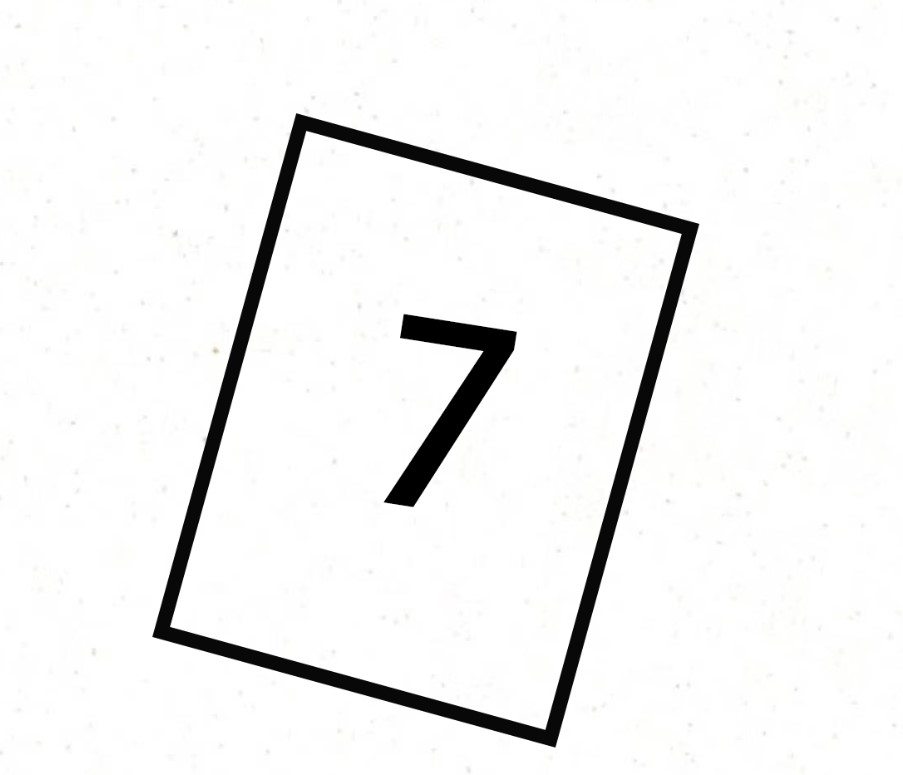seven: (314, 249, 548, 603)
